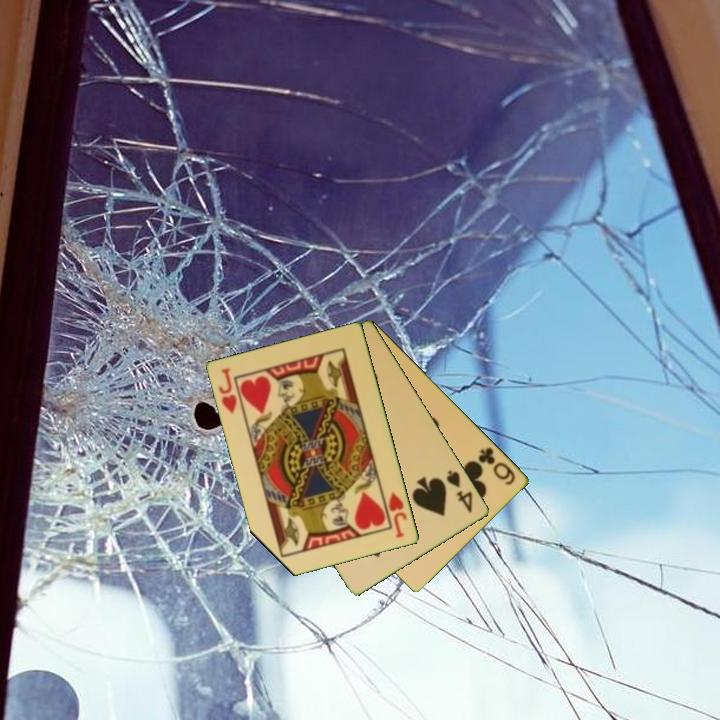4s: (443, 467, 476, 516)
6c: (475, 443, 519, 488)
Jh: (379, 487, 410, 541), (215, 364, 240, 417)
